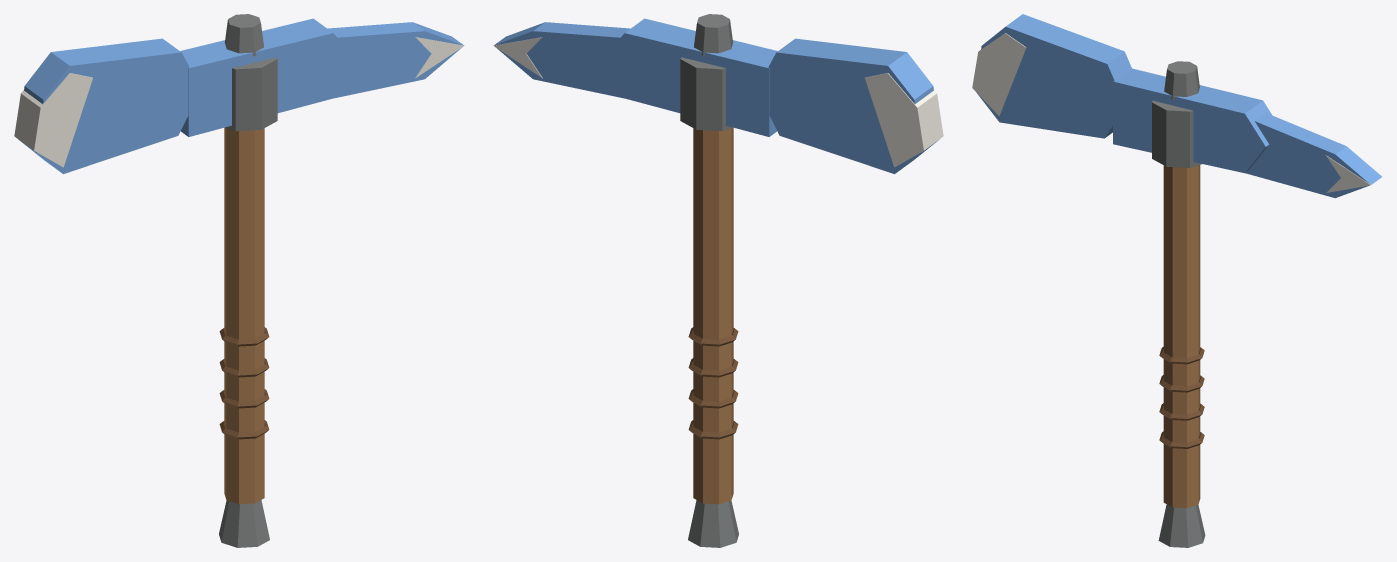
The model's file is t4_hammer.glb.
3 views of the same model, side by side, from view 1: azimuth 30°, elevation 25°; view 2: azimuth 150°, elevation 25°; view 3: azimuth 330°, elevation 25° (orthographic). The views are drawn at different scales.
Parts seen in each view (by area): view 1: WoodHandle, HammerHead, HeadCore, ChiselPoint, HammerFace, HeadSocket, BottomPommel, TopCap, ChiselTip; view 2: WoodHandle, HammerHead, HeadCore, ChiselPoint, HammerFace, HeadSocket, BottomPommel, TopCap, ChiselTip; view 3: WoodHandle, HammerHead, HeadCore, ChiselPoint, HammerFace, HeadSocket, BottomPommel, TopCap, ChiselTip.
Part boxes in pixels (x1=…): WoodHandle: x1=224, y1=127, x2=264, y2=504; HammerHead: x1=18, y1=38, x2=189, y2=174; HeadCore: x1=180, y1=18, x2=356, y2=136; ChiselPoint: x1=327, y1=22, x2=463, y2=98; HammerFace: x1=14, y1=73, x2=92, y2=167; HeadSocket: x1=225, y1=57, x2=277, y2=131; BottomPommel: x1=219, y1=500, x2=269, y2=547; TopCap: x1=224, y1=14, x2=263, y2=56; ChiselTip: x1=415, y1=37, x2=464, y2=78; WoodHandle: x1=693, y1=127, x2=733, y2=504; HammerHead: x1=768, y1=38, x2=939, y2=174; HeadCore: x1=601, y1=18, x2=777, y2=136; ChiselPoint: x1=494, y1=22, x2=630, y2=98; HammerFace: x1=865, y1=73, x2=943, y2=167; HeadSocket: x1=680, y1=57, x2=732, y2=131; BottomPommel: x1=688, y1=500, x2=738, y2=547; TopCap: x1=694, y1=14, x2=733, y2=56; ChiselTip: x1=493, y1=37, x2=542, y2=78; WoodHandle: x1=1163, y1=165, x2=1200, y2=508; HammerHead: x1=976, y1=14, x2=1131, y2=138; HeadCore: x1=1113, y1=68, x2=1272, y2=173; ChiselPoint: x1=1245, y1=113, x2=1381, y2=198; HammerFace: x1=972, y1=33, x2=1026, y2=116; HeadSocket: x1=1152, y1=100, x2=1201, y2=167; BottomPommel: x1=1158, y1=504, x2=1205, y2=547; TopCap: x1=1164, y1=61, x2=1199, y2=99; ChiselTip: x1=1326, y1=155, x2=1382, y2=192.
Size of the model in its own units: 1.32 by 1.52 by 0.18.
